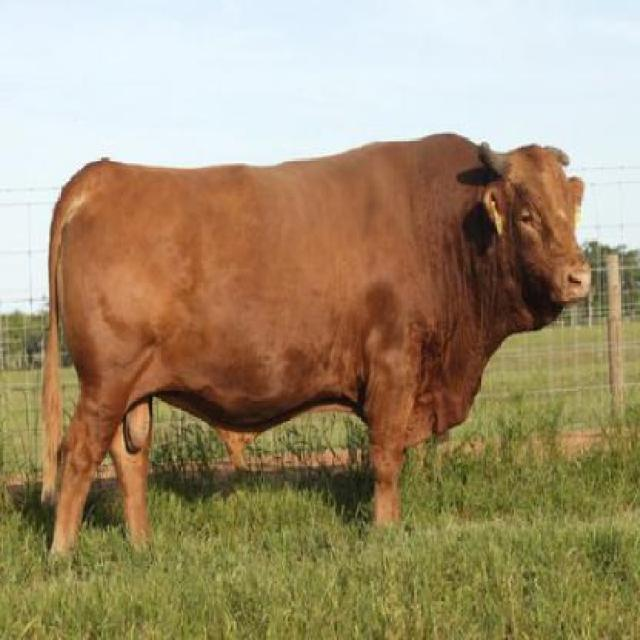Cow: (36, 132, 584, 565)
